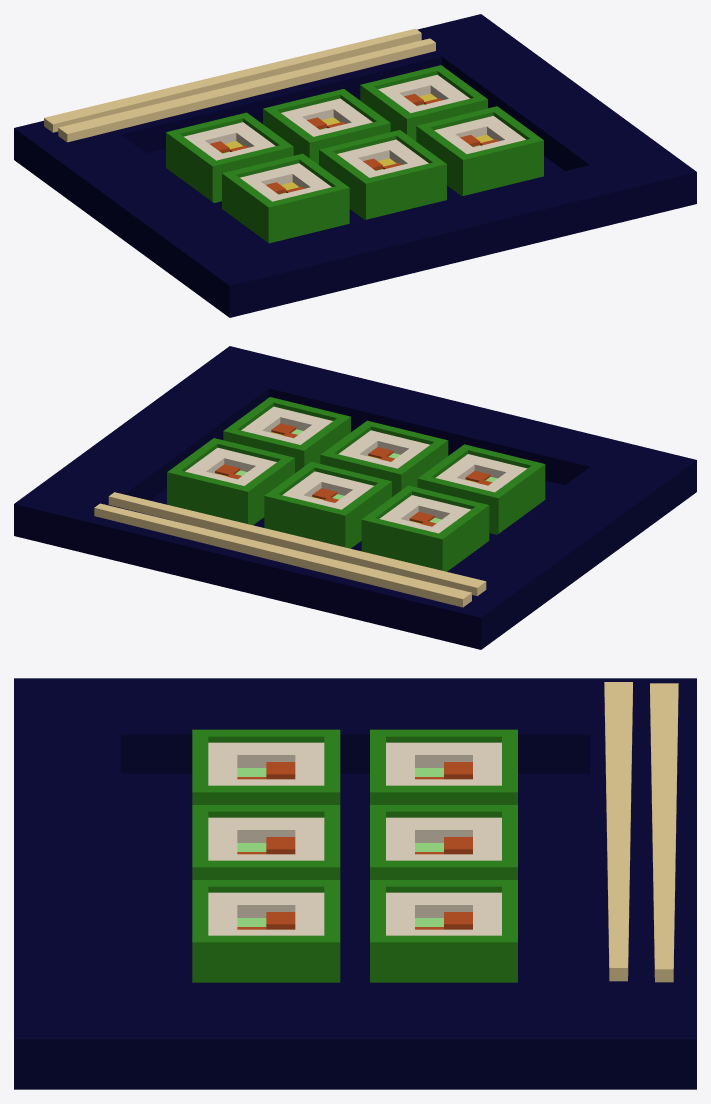
File: sushi.glb
The picture shows the model from 3 angles, top to bottom: view 1: azimuth 30°, elevation 25°; view 2: azimuth 150°, elevation 25°; view 3: azimuth 270°, elevation 25°; orthographic projection. The views are drawn at different scales.
Parts seen in each view (by area): view 1: Plate, Sushi, ChopstickRight, ChopstickLeft; view 2: Plate, Sushi, ChopstickLeft, ChopstickRight; view 3: Plate, Sushi, ChopstickLeft, ChopstickRight.
Part boxes in pixels (box(x1,y1,x2,y2)): Plate: box(14, 14, 696, 317); Sushi: box(166, 65, 543, 243); ChopstickRight: box(58, 38, 435, 142); ChopstickLeft: box(44, 28, 421, 132); Plate: box(14, 346, 696, 649); Sushi: box(167, 397, 545, 571); ChopstickLeft: box(94, 503, 471, 607); ChopstickRight: box(108, 492, 486, 596); Plate: box(14, 678, 696, 1089); Sushi: box(192, 729, 517, 982); ChopstickLeft: box(650, 683, 678, 982); ChopstickRight: box(604, 682, 632, 981).
Size of what is drawn, in the model's own units: 8 by 0.7519 by 6.4.
